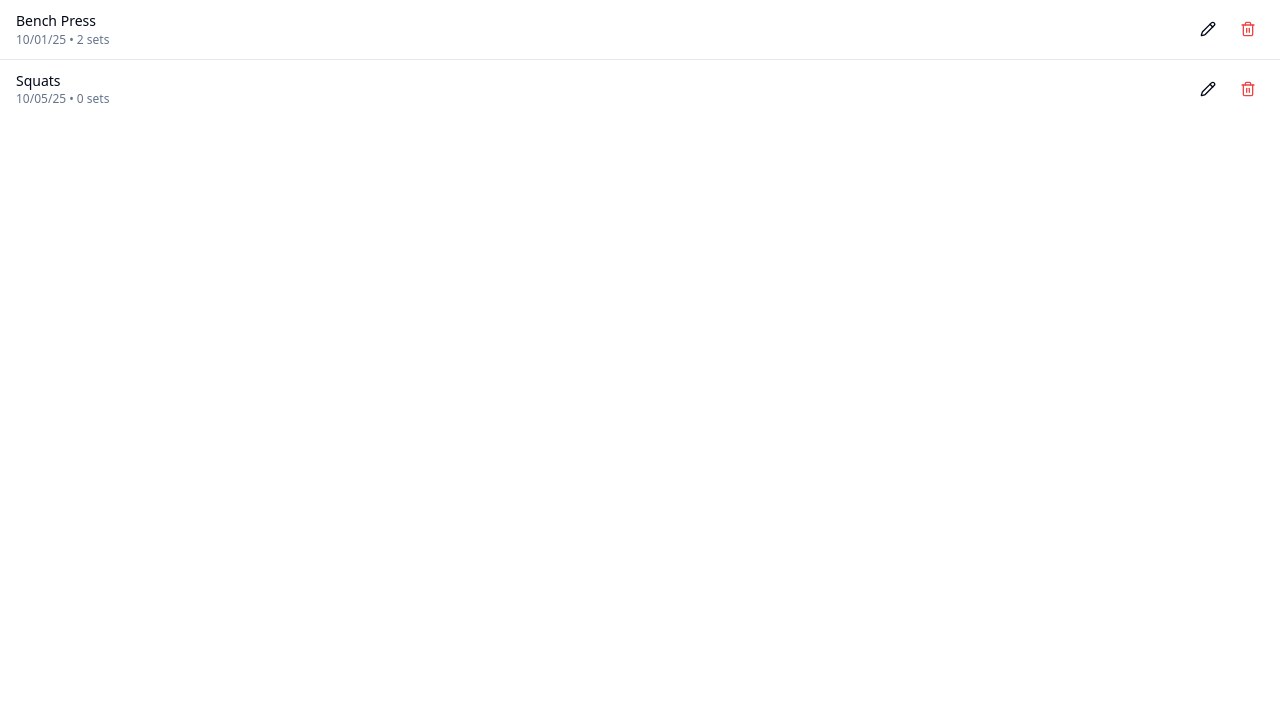
Test: ExerciseManager › delete exercise › shows different message for exercises without sets
Click the 4th button named "Delete". click: x=1248, y=89
box: [1232,73,1264,105]
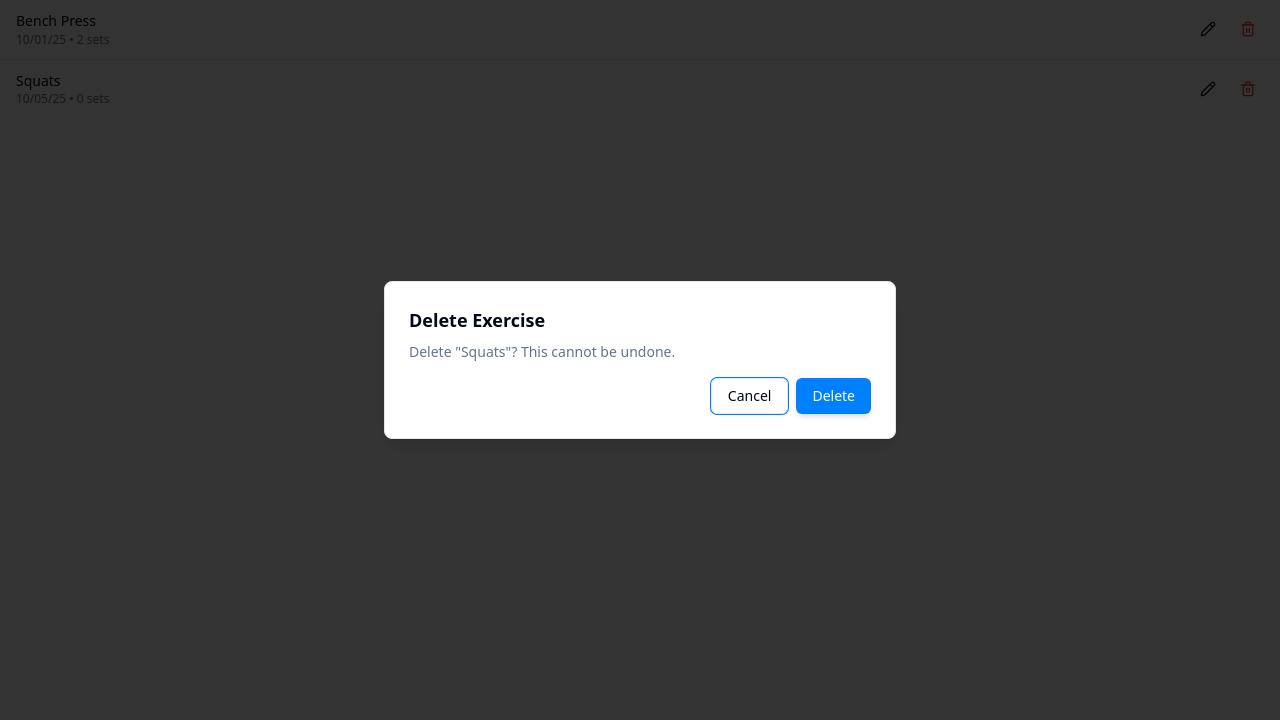
Now the dialog is shown, box [384,281,896,439]
Now the dialog shows "cannot be undone", box [506,342,675,361]
